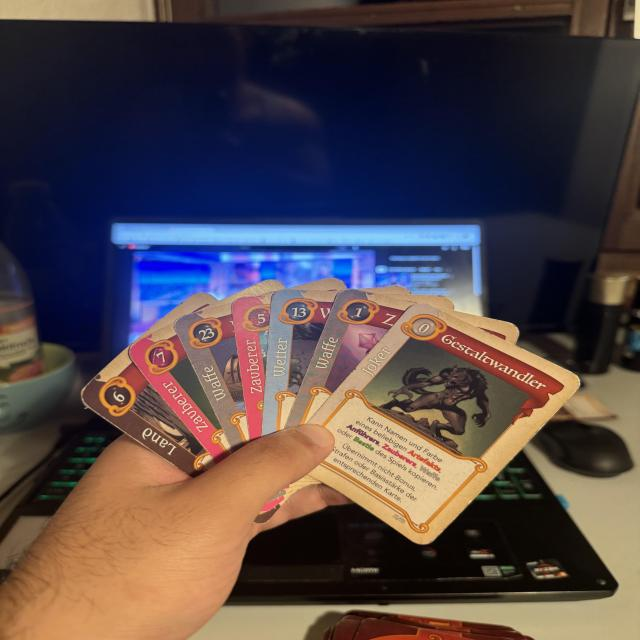Collector: (126, 324, 235, 463)
Elemental Enchantress: (231, 295, 270, 440)
Magic Wand: (282, 286, 412, 431)
Shapeshifter: (305, 299, 588, 549)
Underground Caverns: (76, 351, 217, 479)
Warship: (174, 304, 252, 451)
Whirlwind: (262, 290, 337, 435)
